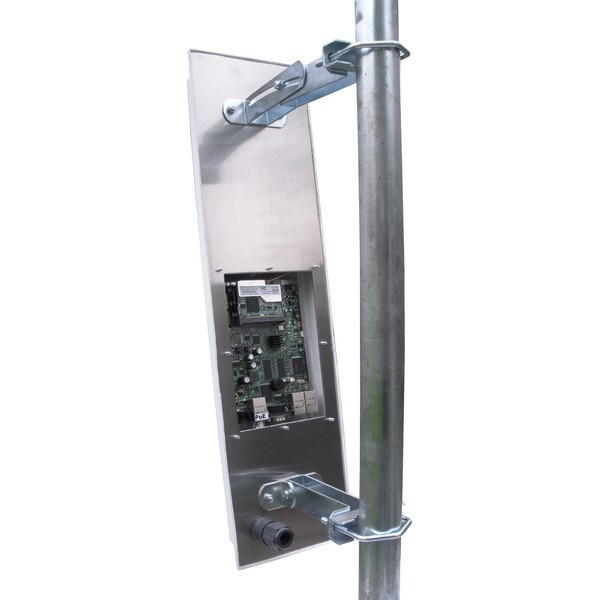sa: (171, 16, 394, 570)
